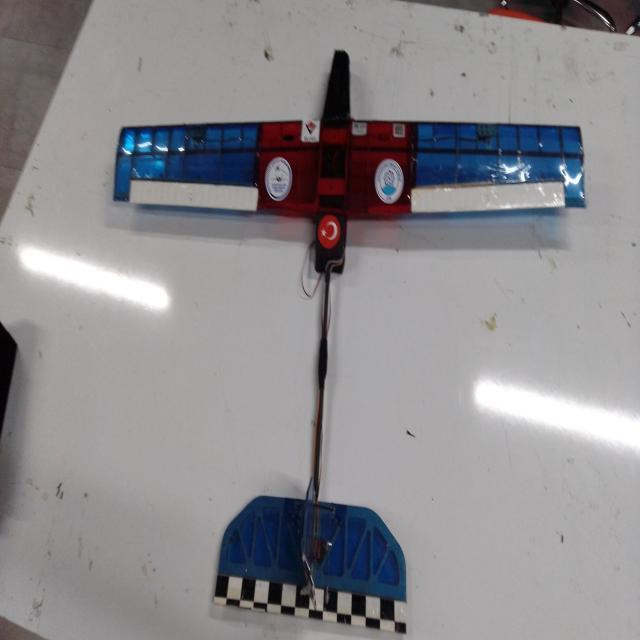UAV: (49, 45, 586, 608)
